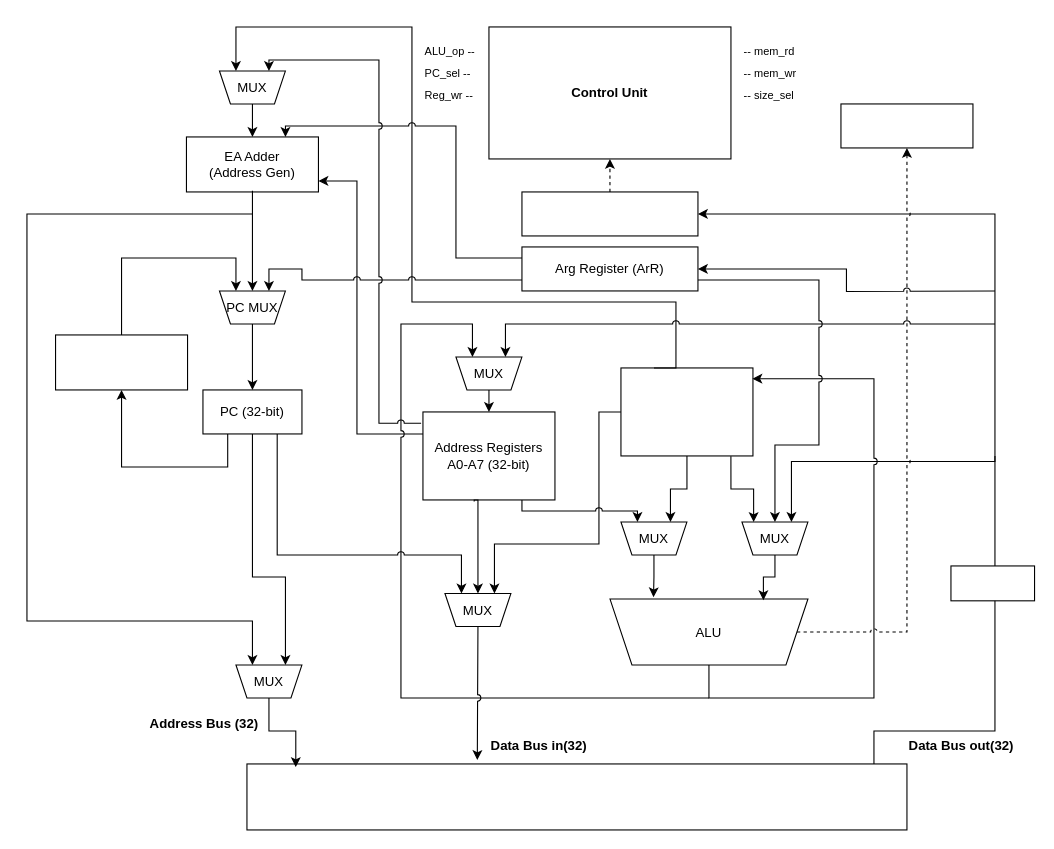
Image size: 1054x849. Some labels were removed from this diagram. The shapes that lost their labels are listed below. From the top down, each one's centre as x and y in pixels, then its label:
At point (906, 125): "Status Register (SR) [N Z V C]".
At point (609, 213): "Instruction Register (IR)".
At point (121, 362): "PC Adder (+2/4/6)".
At point (686, 411): "Data Registers D0-D7 (32-bit)".
At point (992, 583): "mask".
At point (576, 796): "Memory & I/O".
